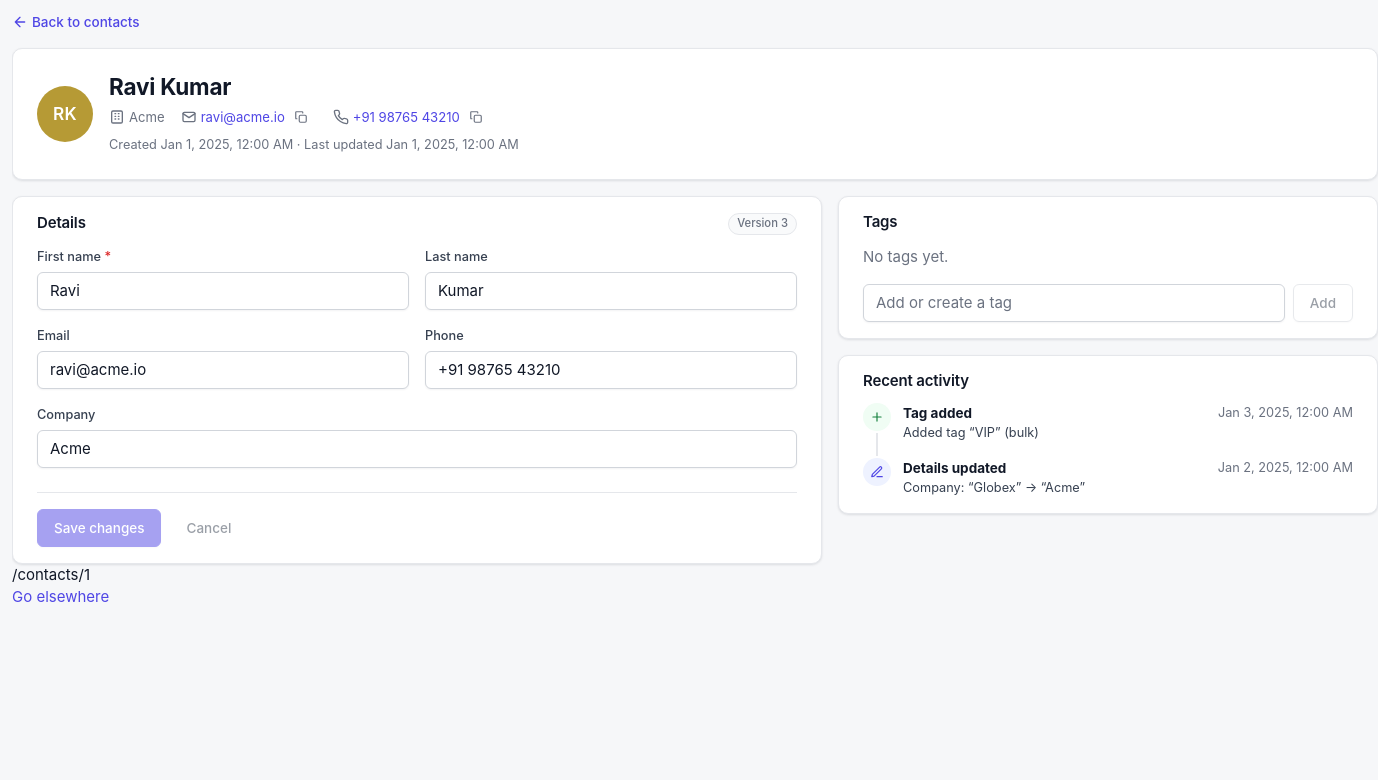
it: ContactDetailPage › saves only the changed fields together with the version it was loaded at
Expected: the heading "Ravi Kumar" is shown, [109,73,231,100]
Expected: the button "Save changes" is disabled, [37,509,162,547]
Replace the text in the field labelled "Company" with "HighLevel" at {"x": 417, "y": 449}, box [37,430,797,468]
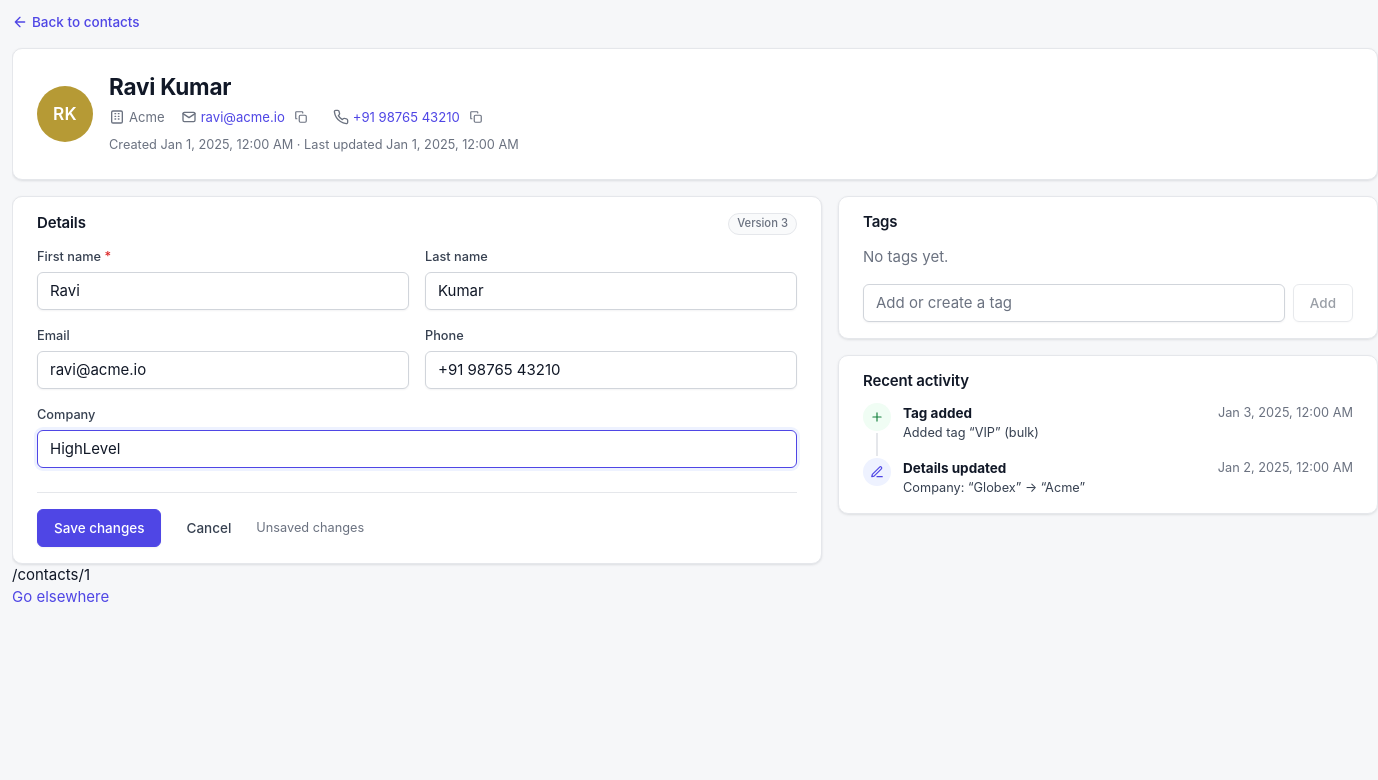
Click the button "Save changes" at {"x": 99, "y": 528}, box [37,509,162,547]
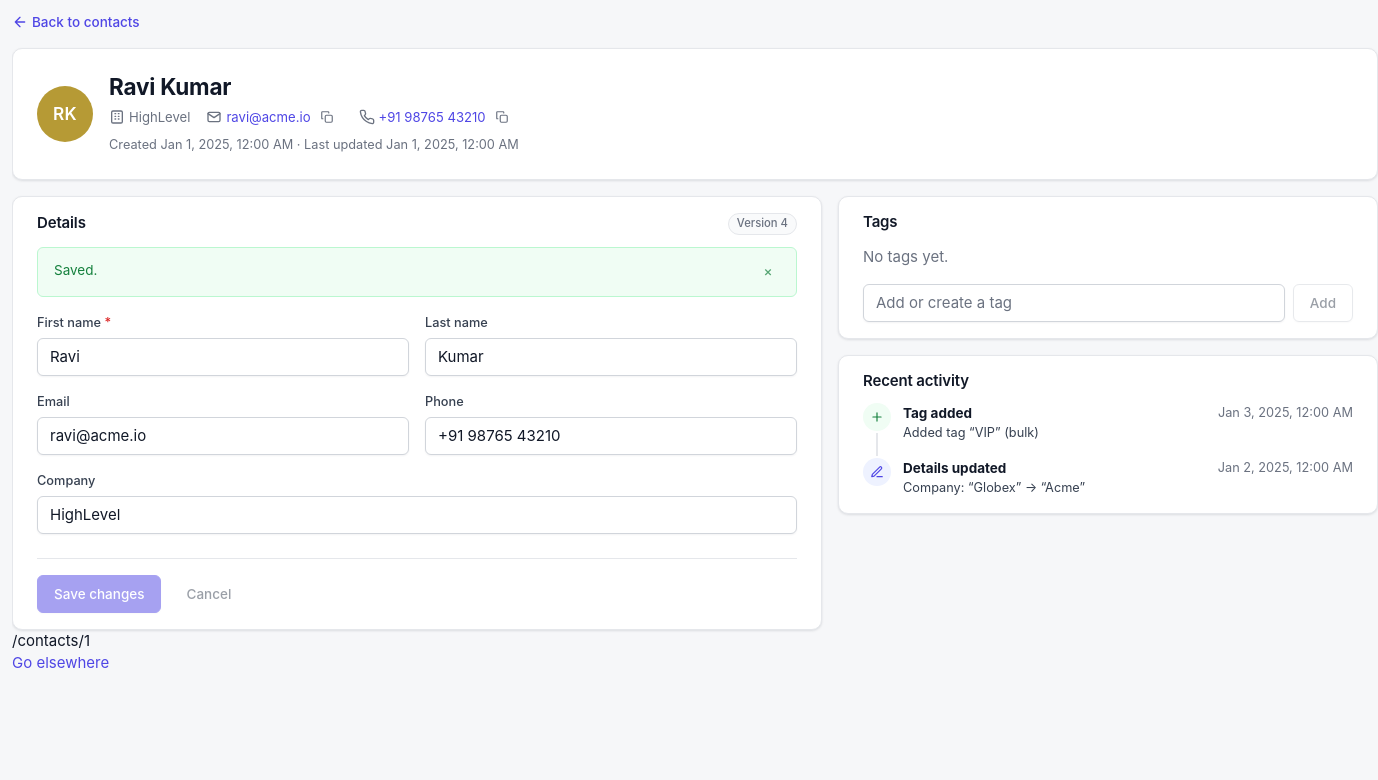
Expected: the text "Saved." is shown, [54,260,97,280]
Expected: the text "Version 4" is shown, [728,212,797,234]
